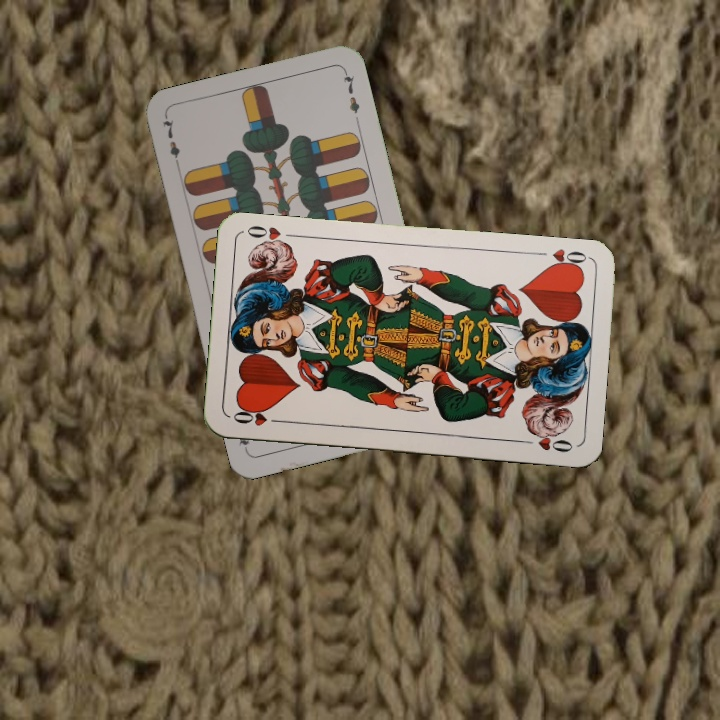E7: (159, 113, 183, 171)
HO: (229, 406, 287, 429), (543, 245, 590, 273)
